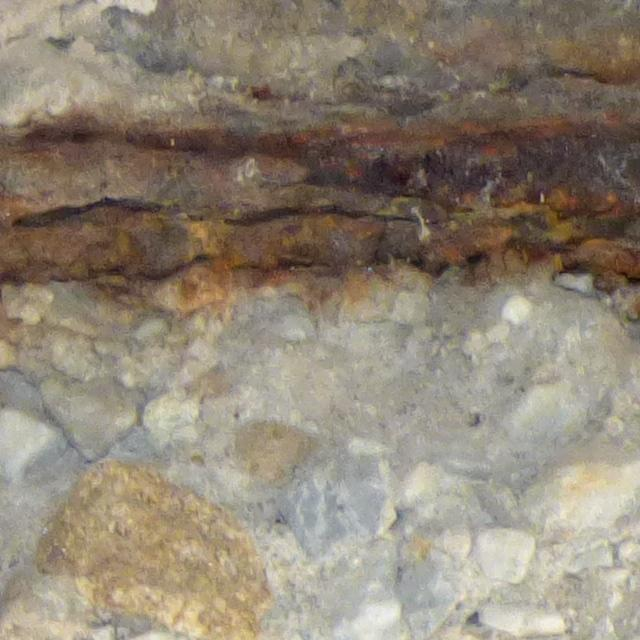Rust: (6, 117, 631, 294)
